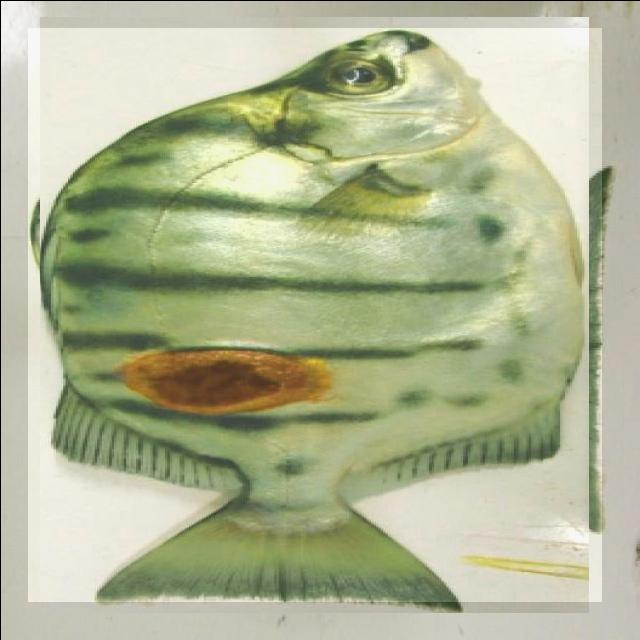EUS Disease: (27, 27, 601, 601), (237, 270, 478, 511)
